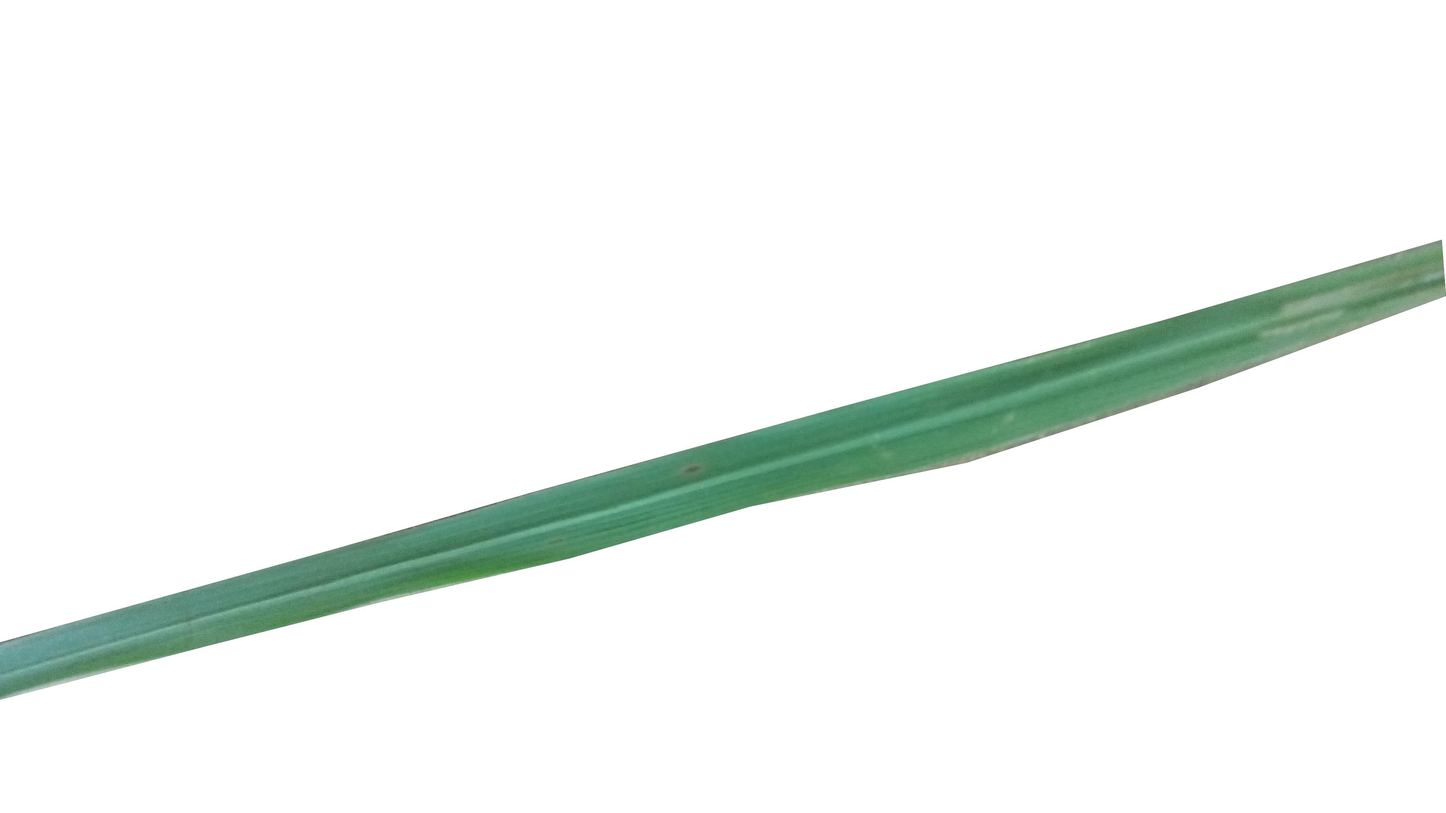Brown spot: (678, 458, 711, 486)
